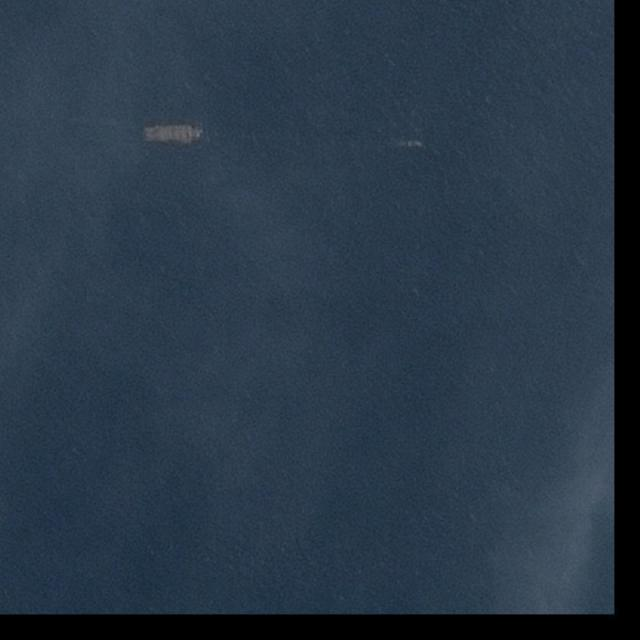ship: (142, 124, 201, 143), (407, 139, 422, 147)
